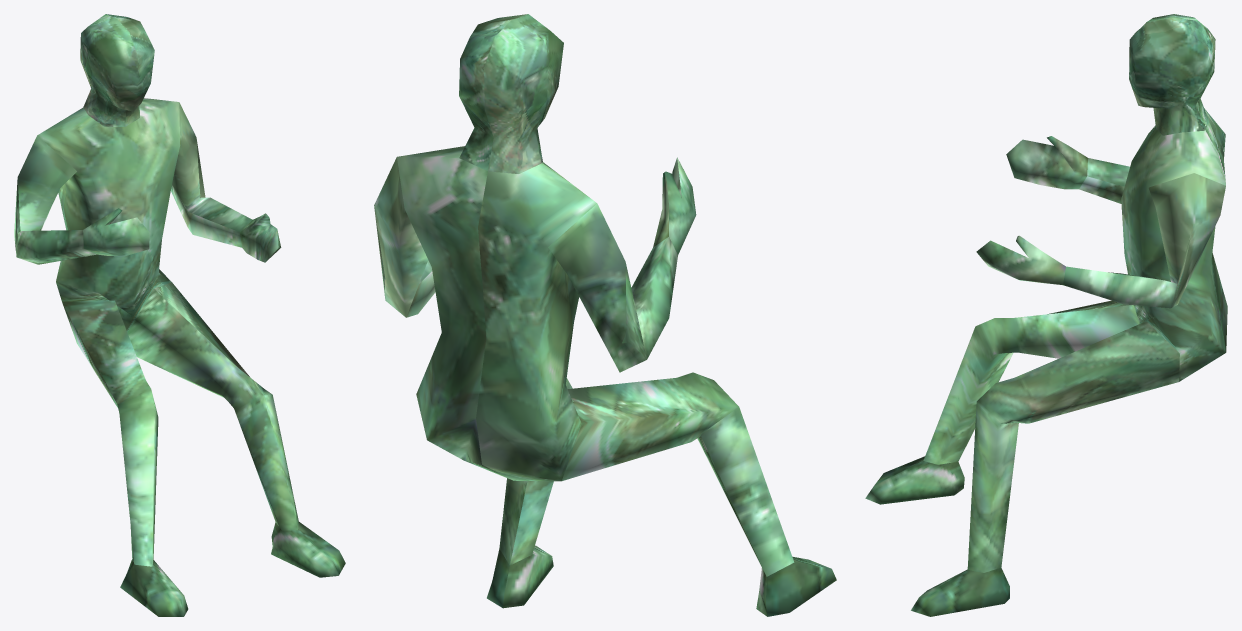
The model's file is Sitting Dude.fbx.
The picture shows the model from 3 angles, left to right: view 1: azimuth 30°, elevation 25°; view 2: azimuth 150°, elevation 25°; view 3: azimuth 270°, elevation 25°; orthographic projection. The views are drawn at different scales.
Parts seen in each view (by area): view 1: HumanoidBase_NotOverlapping; view 2: HumanoidBase_NotOverlapping; view 3: HumanoidBase_NotOverlapping.
Boxes of the visible parts, x1=… form: HumanoidBase_NotOverlapping: x1=14, y1=14, x2=345, y2=616; HumanoidBase_NotOverlapping: x1=374, y1=14, x2=836, y2=616; HumanoidBase_NotOverlapping: x1=865, y1=14, x2=1227, y2=616.
Size of the model in its own units: 64.99 by 142 by 86.42.
